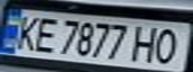7: (106, 20, 133, 61), (54, 17, 81, 56), (90, 20, 115, 60)
8: (75, 19, 96, 57)
E: (27, 15, 63, 54)
H: (127, 22, 163, 63)
K: (9, 12, 45, 52)
O: (148, 26, 187, 65)
